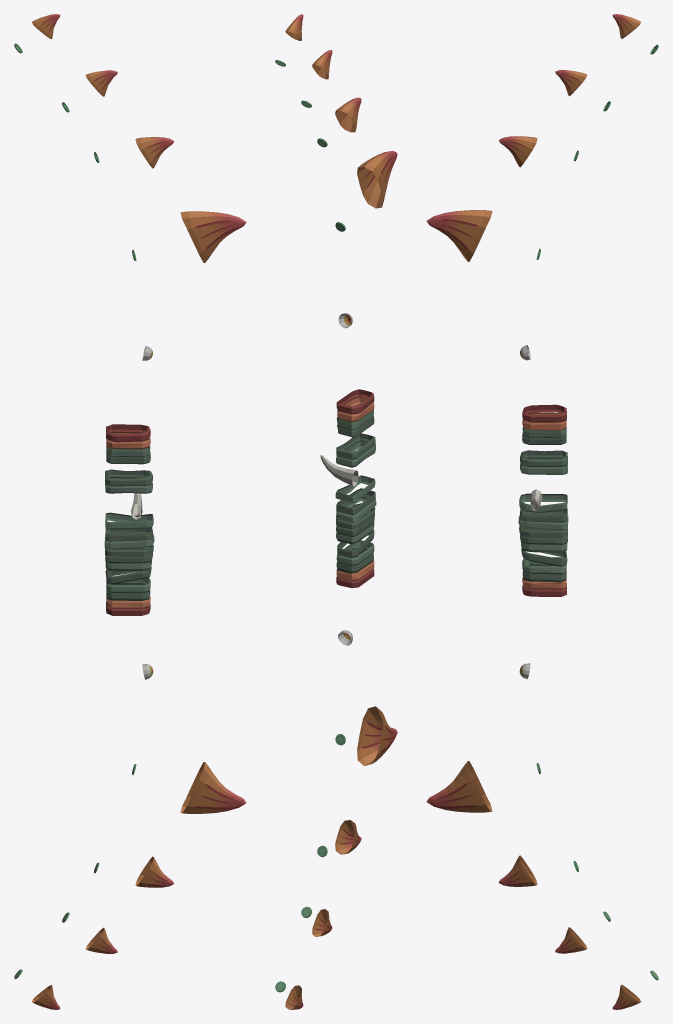
File: largeBowChineseDragonSimpleHandle.glb
The picture shows the model from 3 angles, left to right: view 1: azimuth 90°, elevation 25°; view 2: azimuth 150°, elevation 25°; view 3: azimuth 270°, elevation 25°; orthographic projection.
Parts seen in each view (by area): view 1: largeBowChineseDragonSimpleHandle; view 2: largeBowChineseDragonSimpleHandle; view 3: largeBowChineseDragonSimpleHandle.
Boxes of the visible parts, x1=… form: largeBowChineseDragonSimpleHandle: x1=14, y1=14, x2=246, y2=1009; largeBowChineseDragonSimpleHandle: x1=275, y1=14, x2=397, y2=1009; largeBowChineseDragonSimpleHandle: x1=426, y1=14, x2=658, y2=1009.
Size of the model in its own units: 0.0905 by 1.64 by 0.3459.
